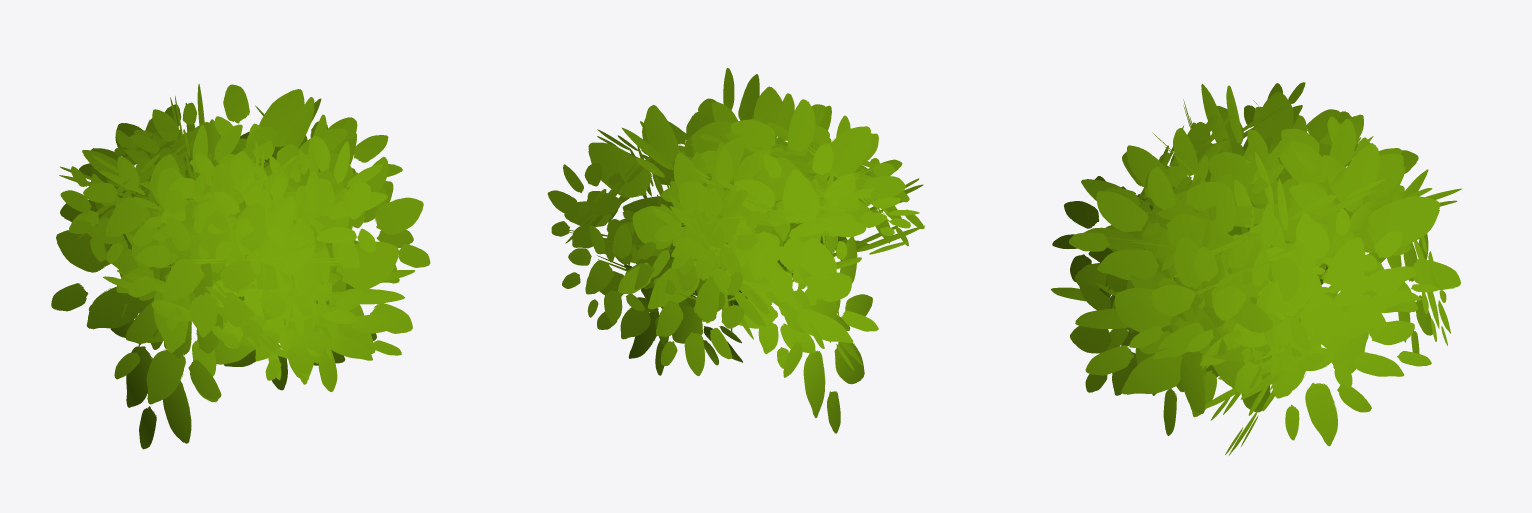
File: bush_fruit_bare_far.gltf
The picture shows the model from 3 angles, left to right: view 1: azimuth 30°, elevation 25°; view 2: azimuth 150°, elevation 25°; view 3: azimuth 270°, elevation 25°; orthographic projection. The views are drawn at different scales.
Parts seen in each view (by area): view 1: bush_fruit_bare_far; view 2: bush_fruit_bare_far; view 3: bush_fruit_bare_far.
Boxes of the visible parts, <box> form: bush_fruit_bare_far: <box>51,84,430,449</box>; bush_fruit_bare_far: <box>547,68,924,433</box>; bush_fruit_bare_far: <box>1051,82,1461,455</box>.
Bounding box in the file's own units: 1.03 × 1.06 × 1.07.
Materials: 1 (1 with a texture image).
